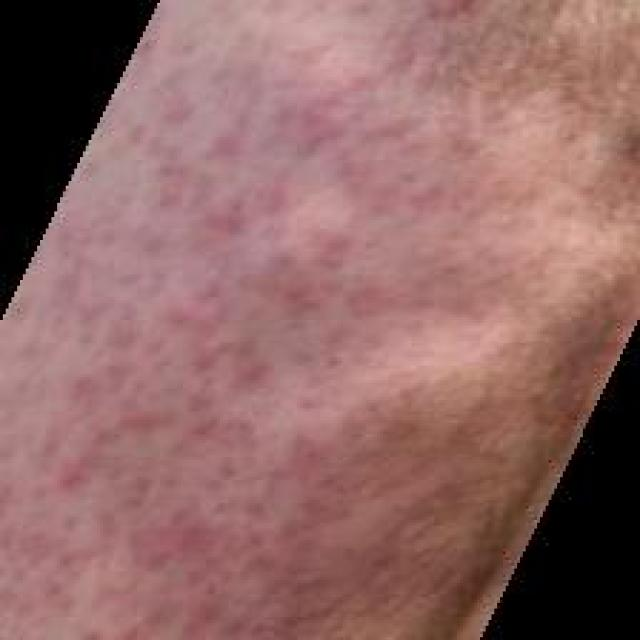monkeypox: (20, 0, 551, 629)
